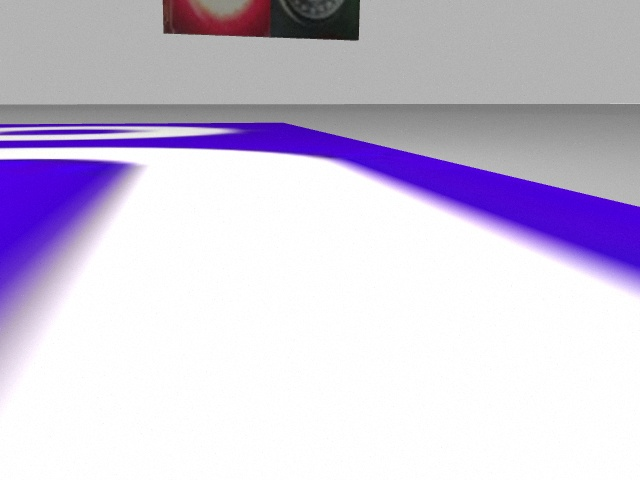red: (164, 1, 269, 40)
